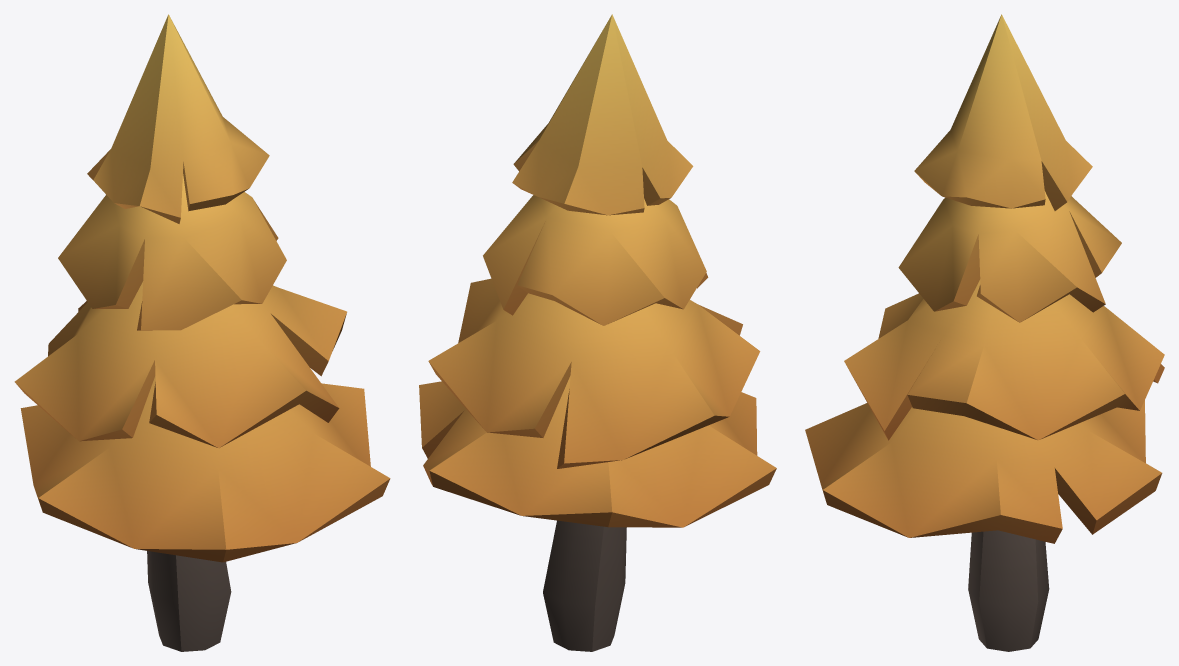
Rendered from tree_pine_yellow_medium.glb.
3 views of the same model, side by side, from view 1: azimuth 30°, elevation 25°; view 2: azimuth 150°, elevation 25°; view 3: azimuth 270°, elevation 25° (orthographic). The views are drawn at different scales.
Parts seen in each view (by area): view 1: tree_pine_yellow_medium; view 2: tree_pine_yellow_medium; view 3: tree_pine_yellow_medium.
Boxes of the visible parts, left/top/right/bottom form: tree_pine_yellow_medium: left=14, top=14, right=390, bottom=651; tree_pine_yellow_medium: left=419, top=14, right=776, bottom=651; tree_pine_yellow_medium: left=805, top=14, right=1164, bottom=651.
Bounding box in the file's own units: 3.33 × 5.87 × 3.12.
Materials: 1 (1 with a texture image).
